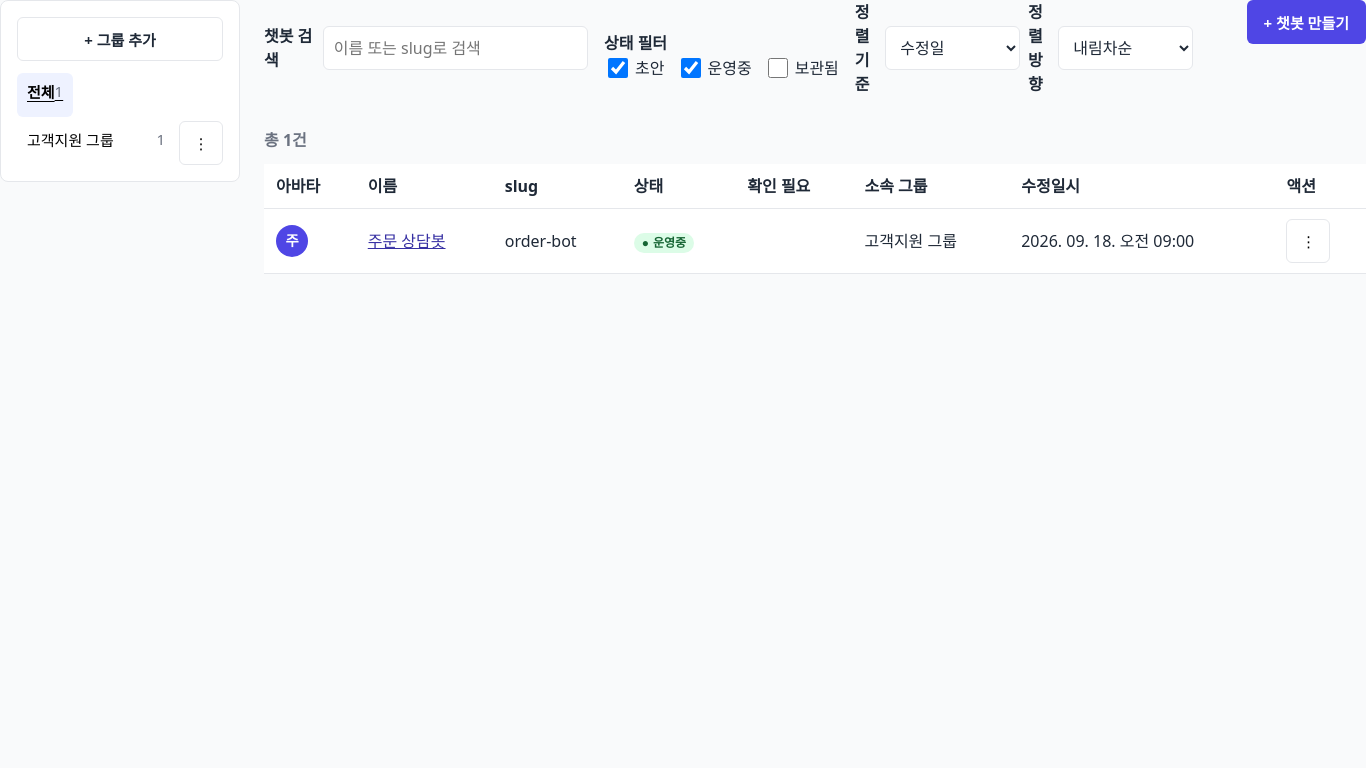
it: ChatbotListPage — 그룹/챗봇 CRUD 플로우 › 그룹 이름 입력 중 동일 이름이 이미 있으면 차단하지 않는 안내 문구를 보여준다(FR-1-6)
Expected: the button "고객지원 그룹 1" is shown, [17, 121, 175, 165]
Click the button "+ 그룹 추가". click: {"x": 120, "y": 39}
box: [17, 17, 223, 61]
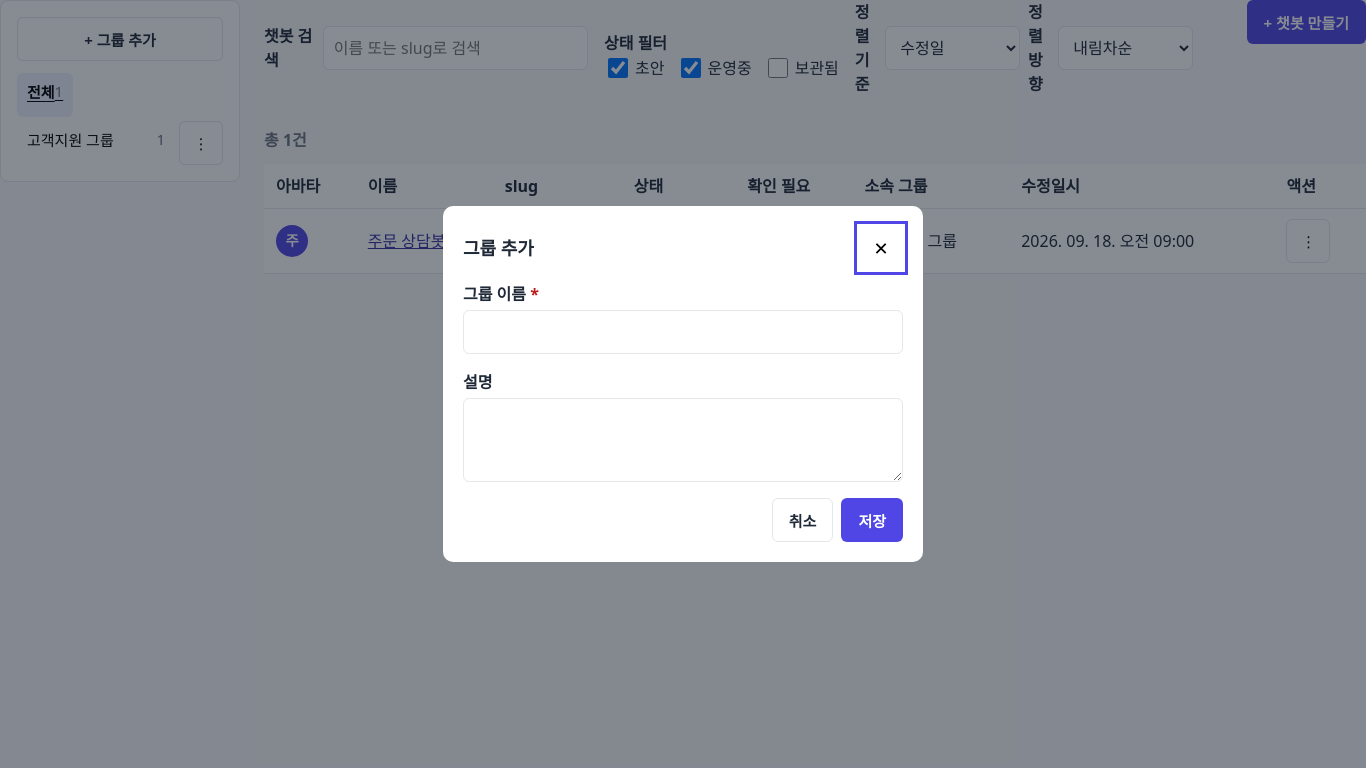
Type "고객지원 그룹" into the field labelled "그룹 이름 *". click: {"x": 683, "y": 332}
box: [463, 310, 903, 354]
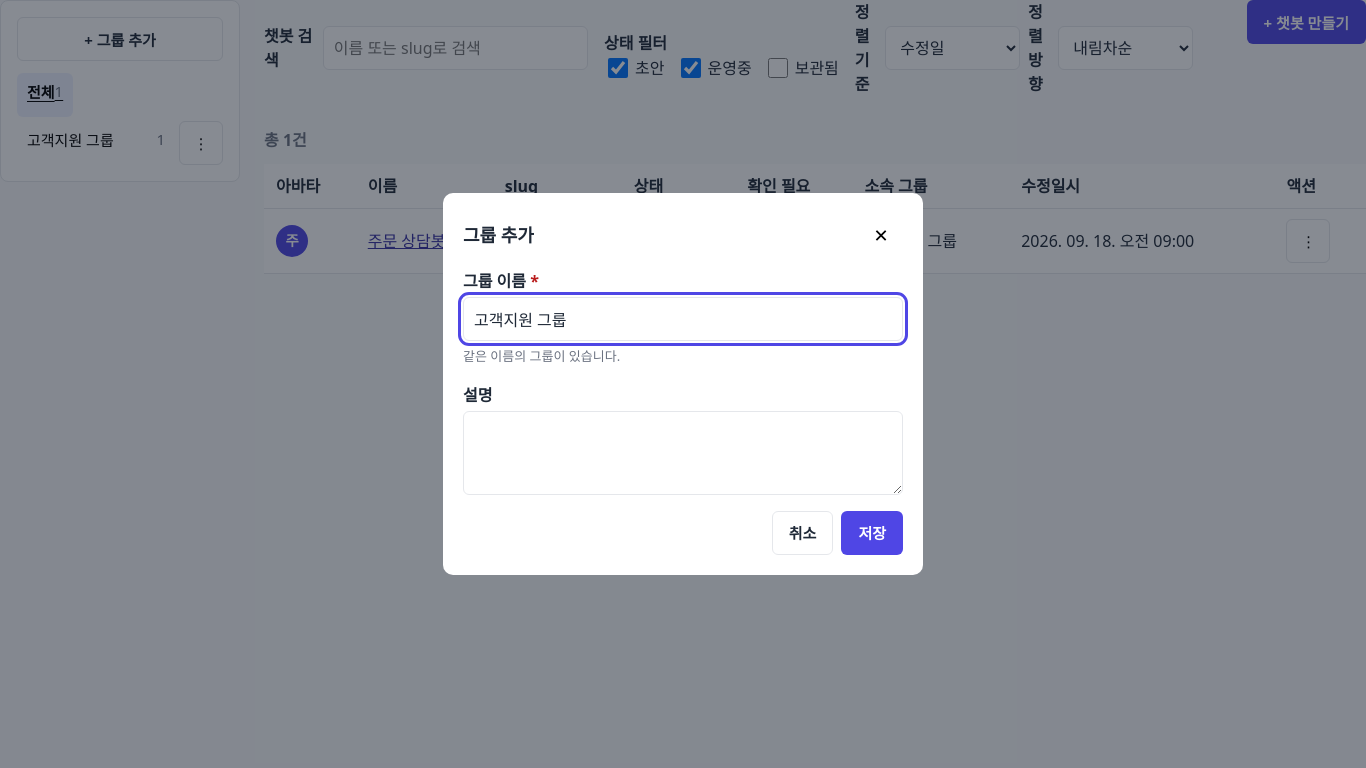
Expected: the text "같은 이름의 그룹이 있습니다." is shown, [463, 347, 620, 365]
